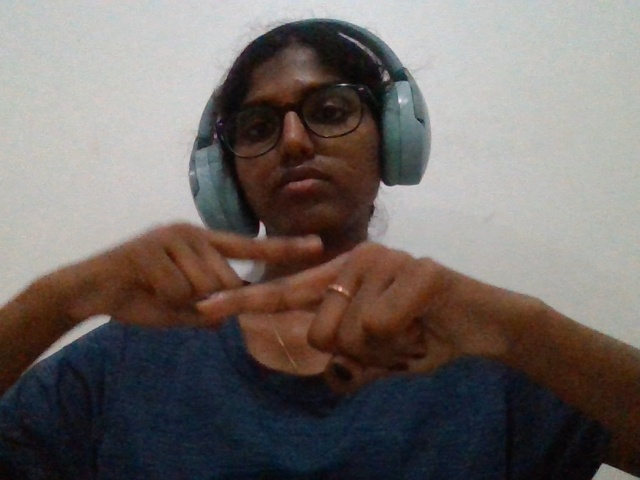Sign: (20, 198, 560, 447)
